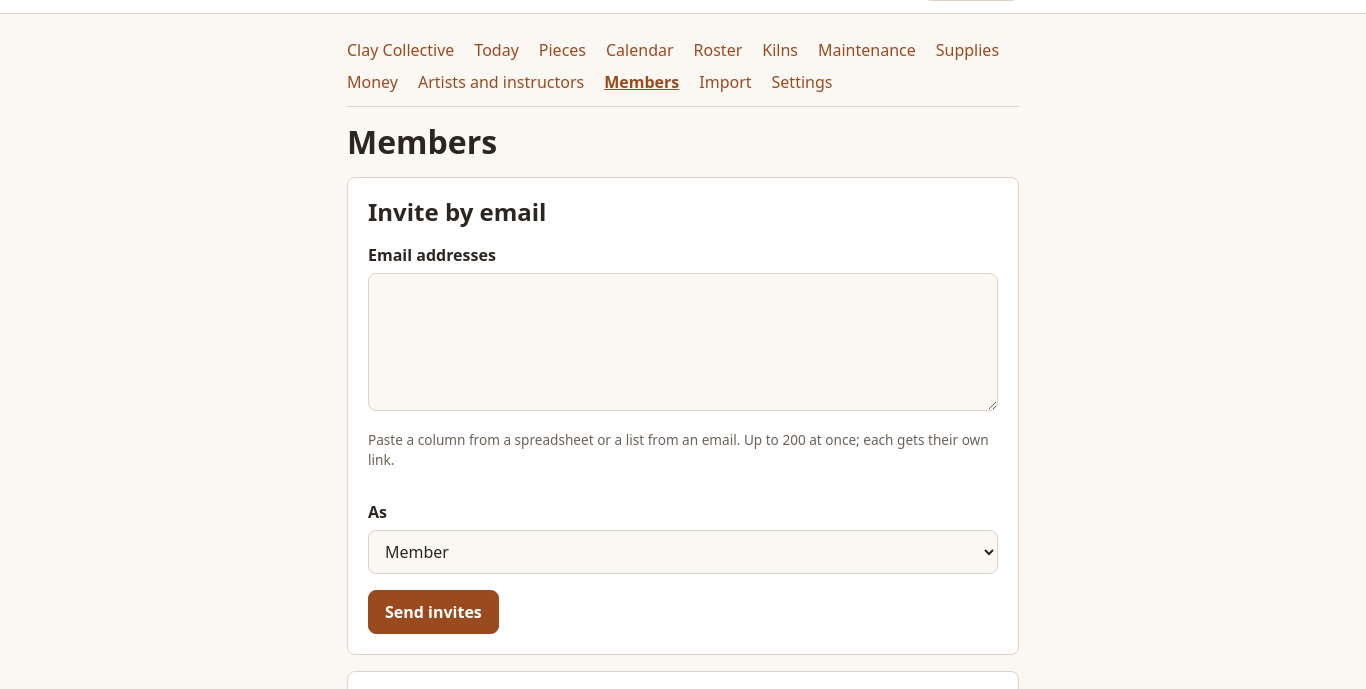
Test case: members › emails invites to a pasted list and says who was skipped
The width and height of the screenshot is (1366, 689).
Type "nia@example.com, mo@example.com" into the text box labelled "Email addresses" at (683, 342), box x1=368 y1=273 x2=998 y2=411
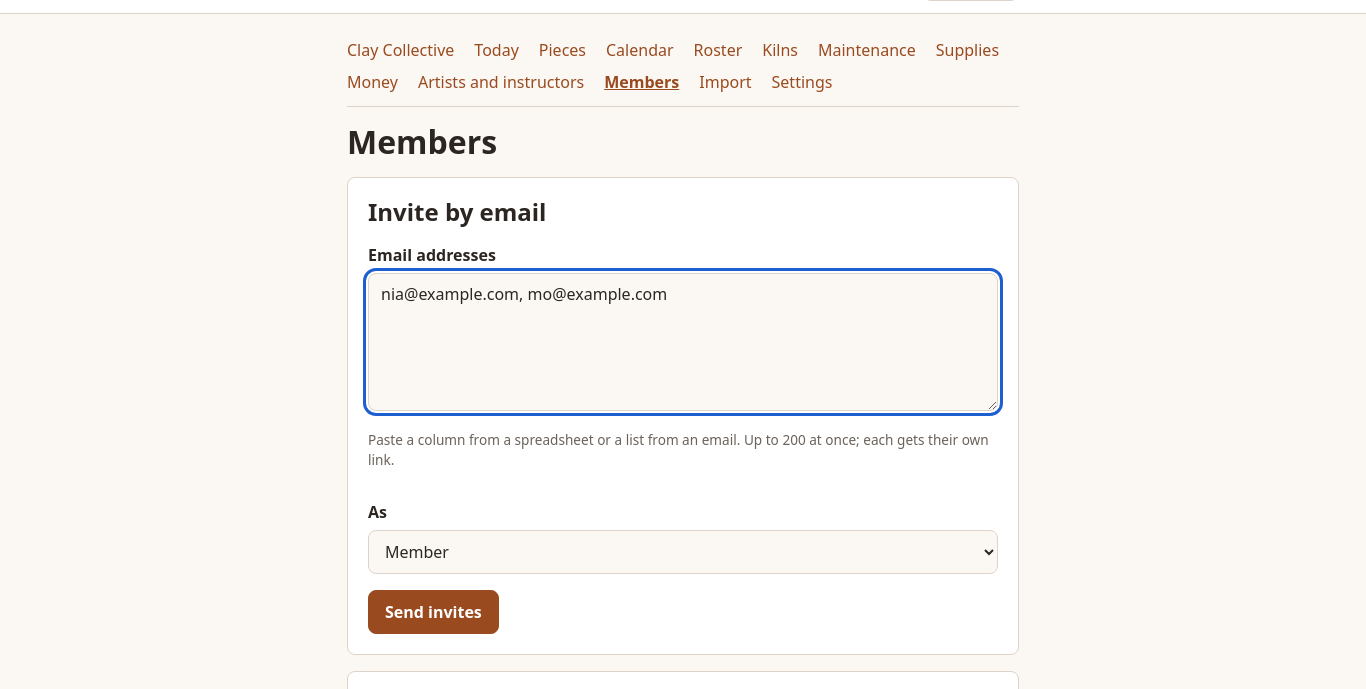
Click the button "Send invites" at (433, 612), box x1=368 y1=590 x2=499 y2=634
(page scrolled)
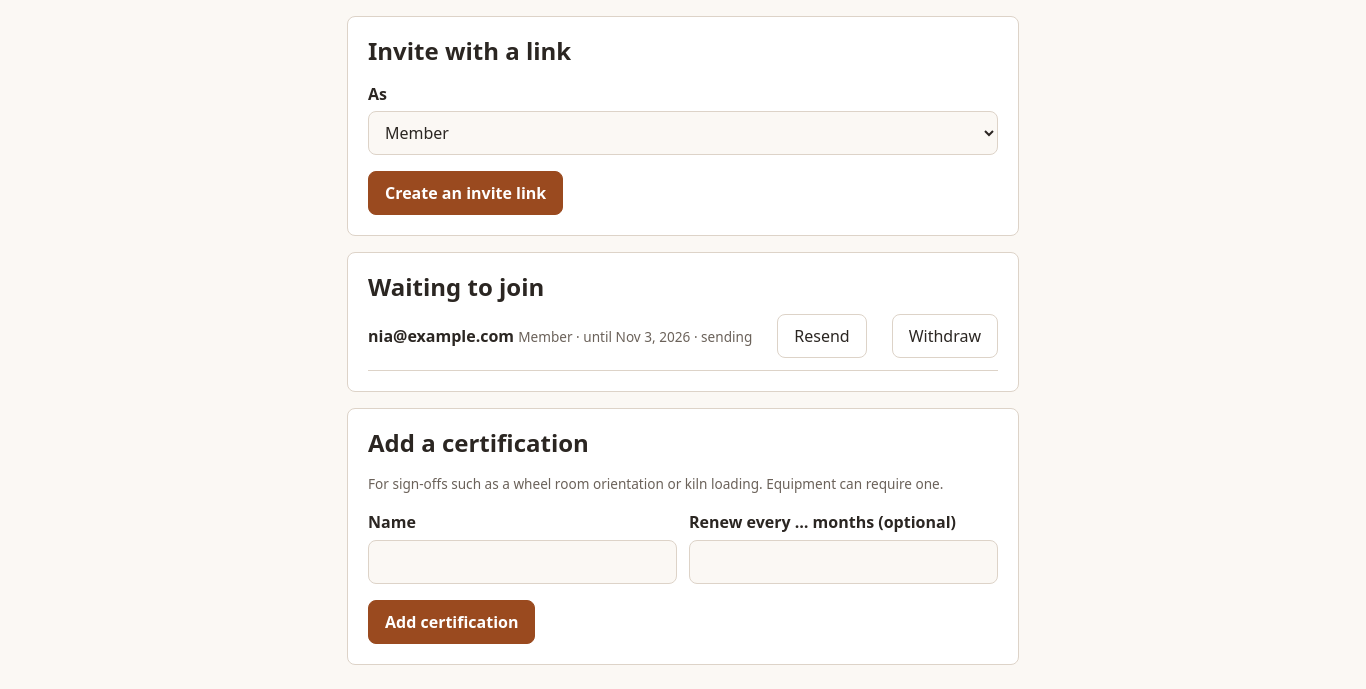
Result: the text "nia@example.com" is shown at x1=368 y1=325 x2=514 y2=347
Result: the text "Member · until Nov 3, 2026 · sending" is shown at x1=518 y1=327 x2=752 y2=346
